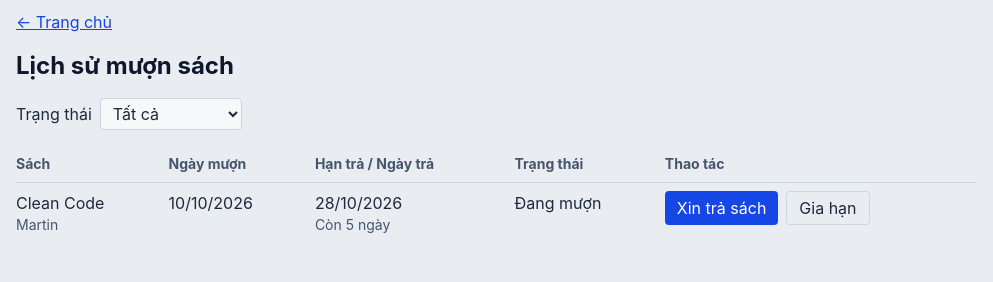
Test: MyBorrows › renews a borrow and reloads
This screenshot has width=993, height=282.
Click the button "Gia hạn". click: (828, 208)
box: [786, 191, 870, 225]
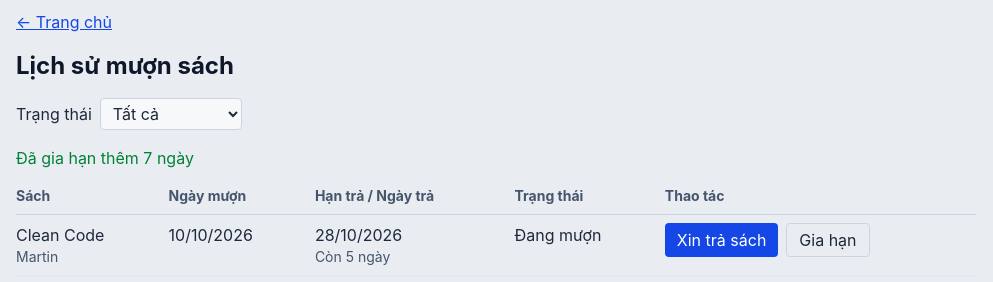
Check: the text "Đã gia hạn thêm 7 ngày" is shown, box [16, 148, 194, 168]
